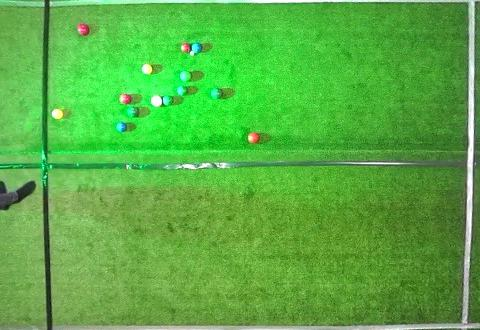blue: (116, 122, 127, 132), (192, 43, 202, 53)
green: (211, 88, 223, 99), (180, 71, 191, 82), (127, 107, 139, 117), (177, 86, 188, 96), (163, 96, 173, 106)
red: (77, 24, 89, 36), (119, 93, 131, 104), (151, 95, 162, 107), (248, 132, 259, 144), (180, 43, 190, 53)
vline: (1, 1, 54, 329), (458, 1, 479, 329)
white: (190, 51, 195, 56)
yellow: (52, 109, 63, 119), (142, 64, 152, 74)
